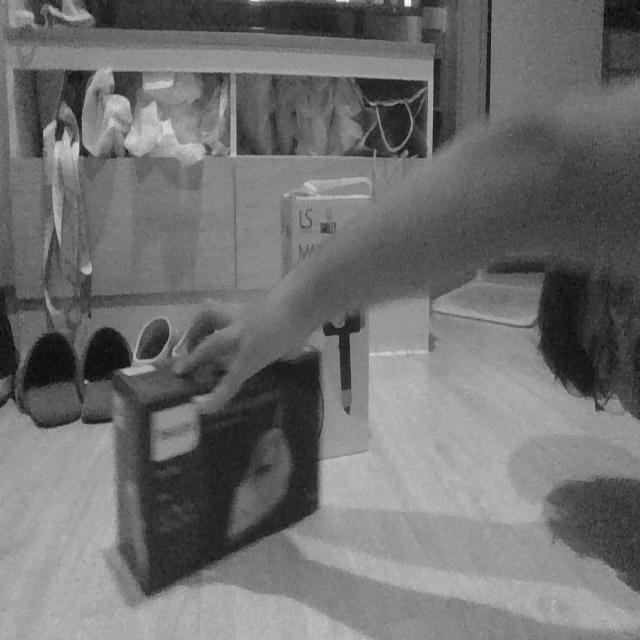Dryer: (279, 173, 375, 431)
IRON: (108, 339, 326, 597)
